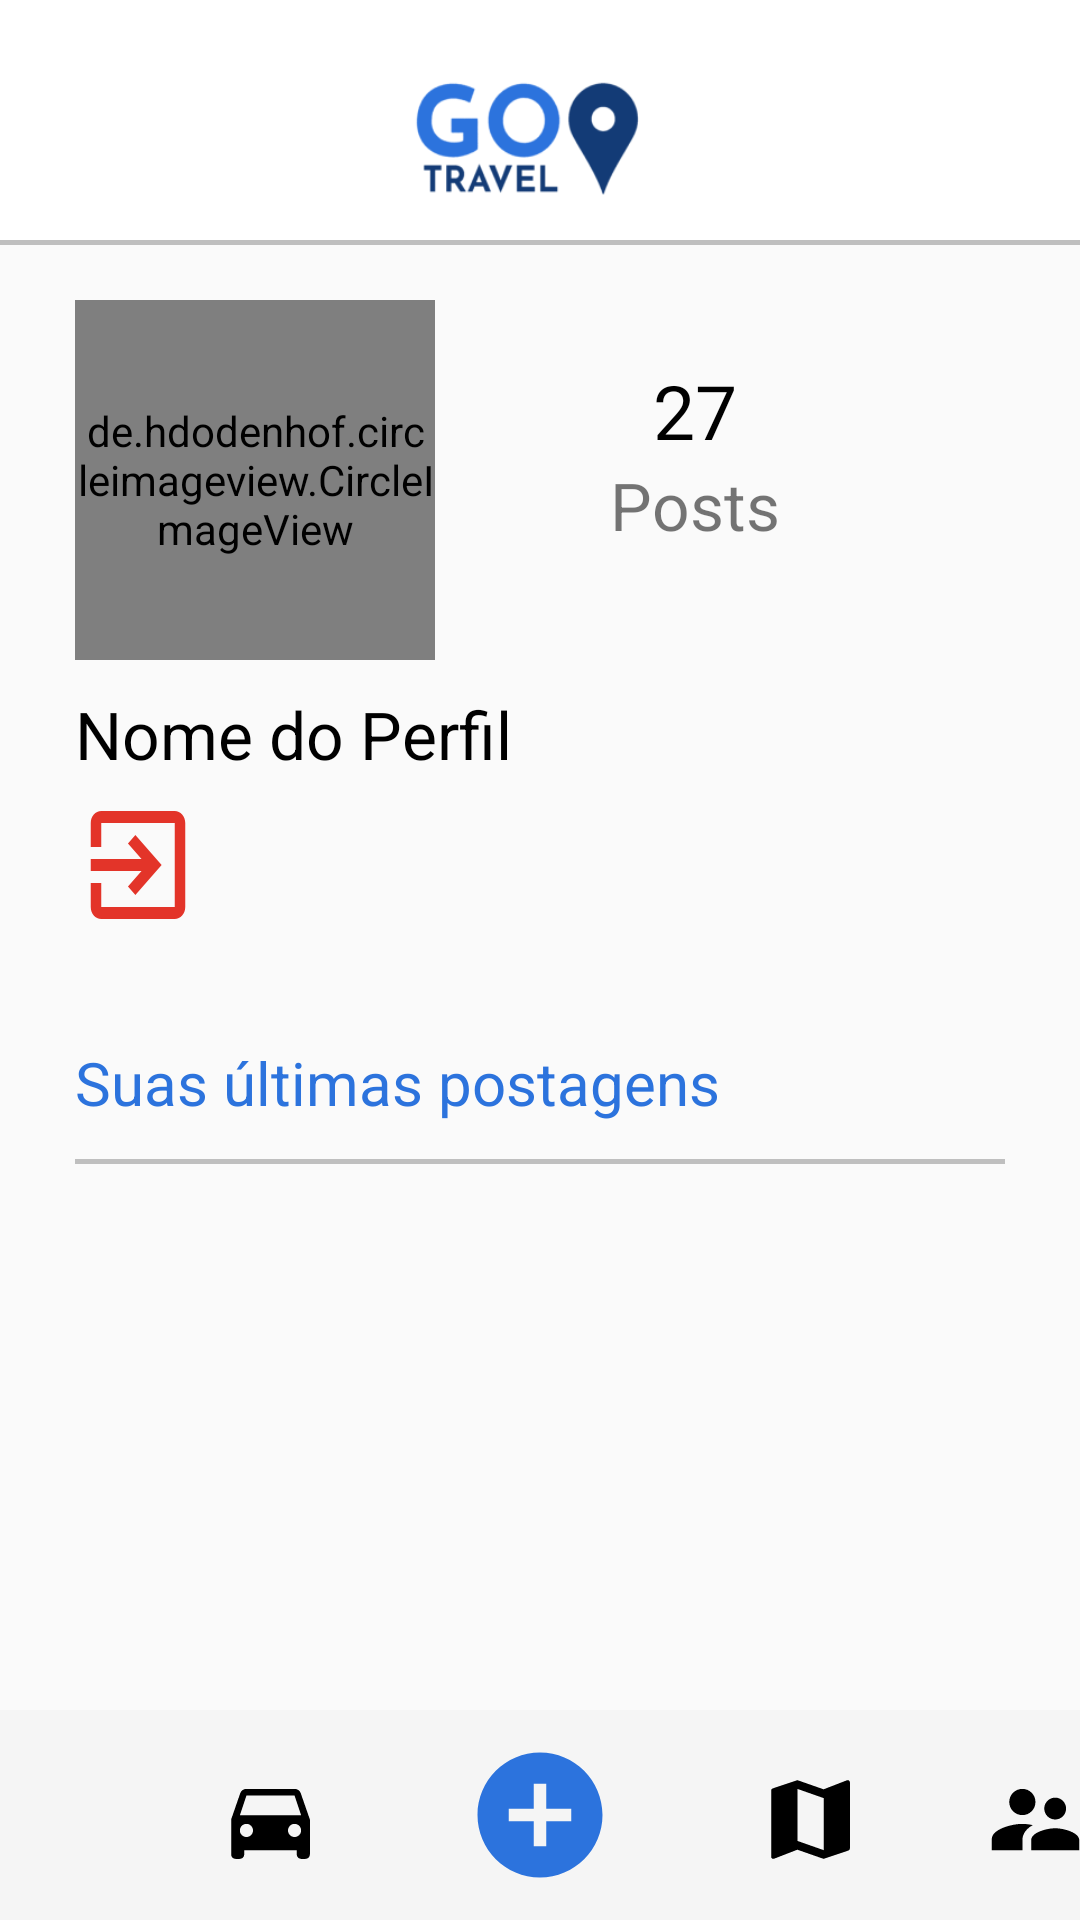

Locate icon controls on the screen. Image size 1080x1920, boxes as (x1, y1, x2, y2).
add circle: (477, 1752, 603, 1878)
directions car: (231, 1789, 310, 1859)
exit to app: (90, 811, 186, 919)
map: (771, 1780, 850, 1859)
supervisor account: (991, 1789, 1080, 1851)
